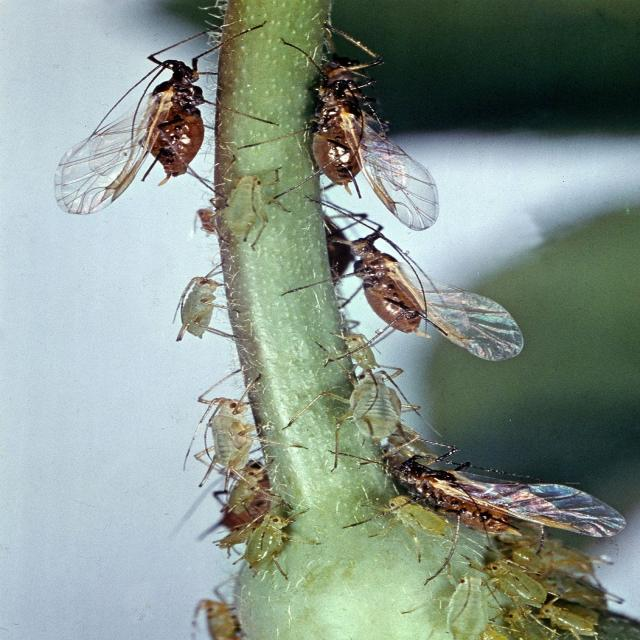Aphid-Grown-: (181, 384, 287, 485), (326, 363, 438, 452), (231, 507, 321, 575), (152, 269, 226, 343), (368, 486, 462, 544), (425, 569, 490, 637), (485, 556, 553, 611)
Aphid-Grown-have wings-: (46, 27, 250, 220), (290, 48, 467, 235), (306, 228, 543, 352), (374, 446, 635, 545)
